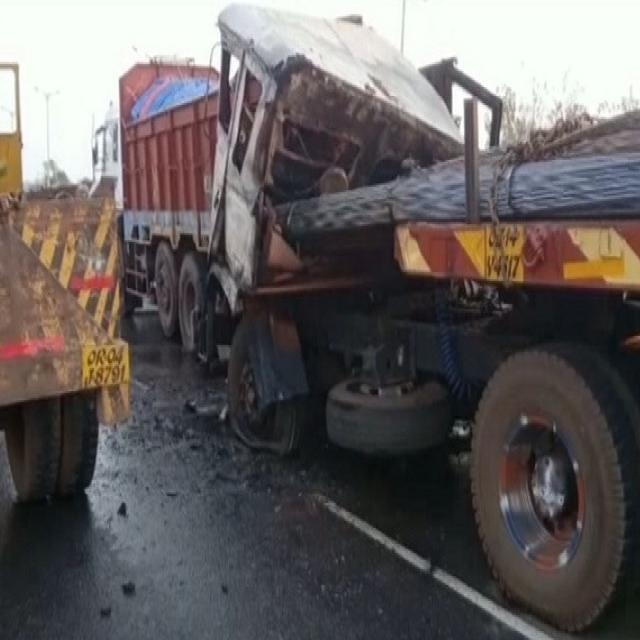accident: (208, 7, 640, 630)
truck: (91, 61, 234, 362)
